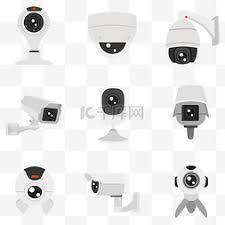maru: (85, 12, 153, 54), (171, 86, 214, 140), (12, 5, 53, 55), (15, 166, 66, 206), (165, 18, 202, 70), (97, 80, 138, 123), (168, 165, 205, 195)
tutu: (9, 94, 72, 124), (85, 173, 137, 204)
